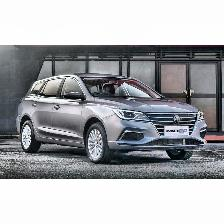EV: (17, 75, 209, 163)
